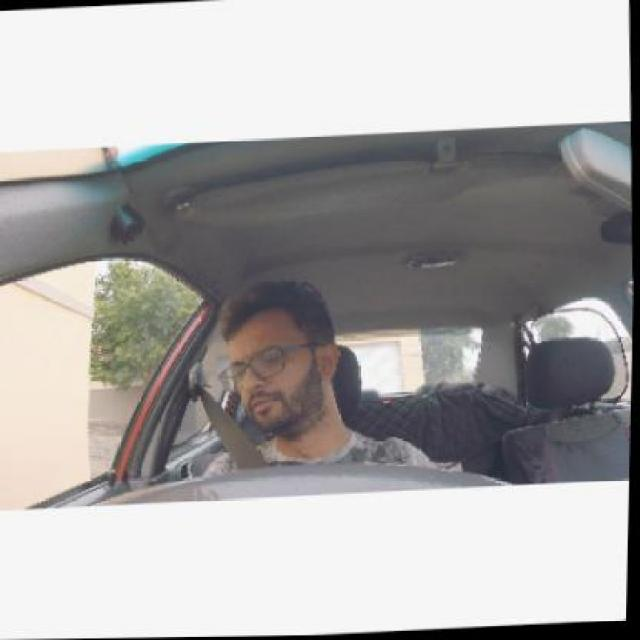drowsy: (212, 266, 351, 445)
